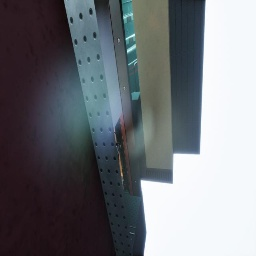EmergencyPhone ,: (114, 132, 126, 186)
SafetySwitchPanel ,: (94, 0, 122, 130)
